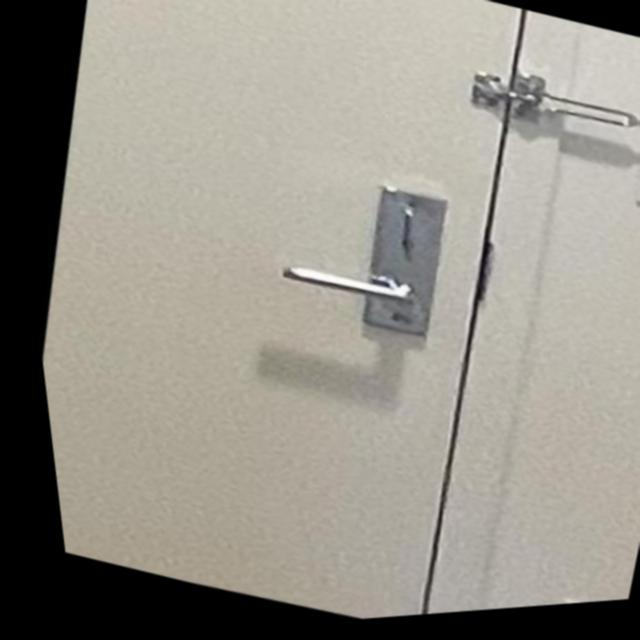door_handle: (245, 233, 450, 356)
